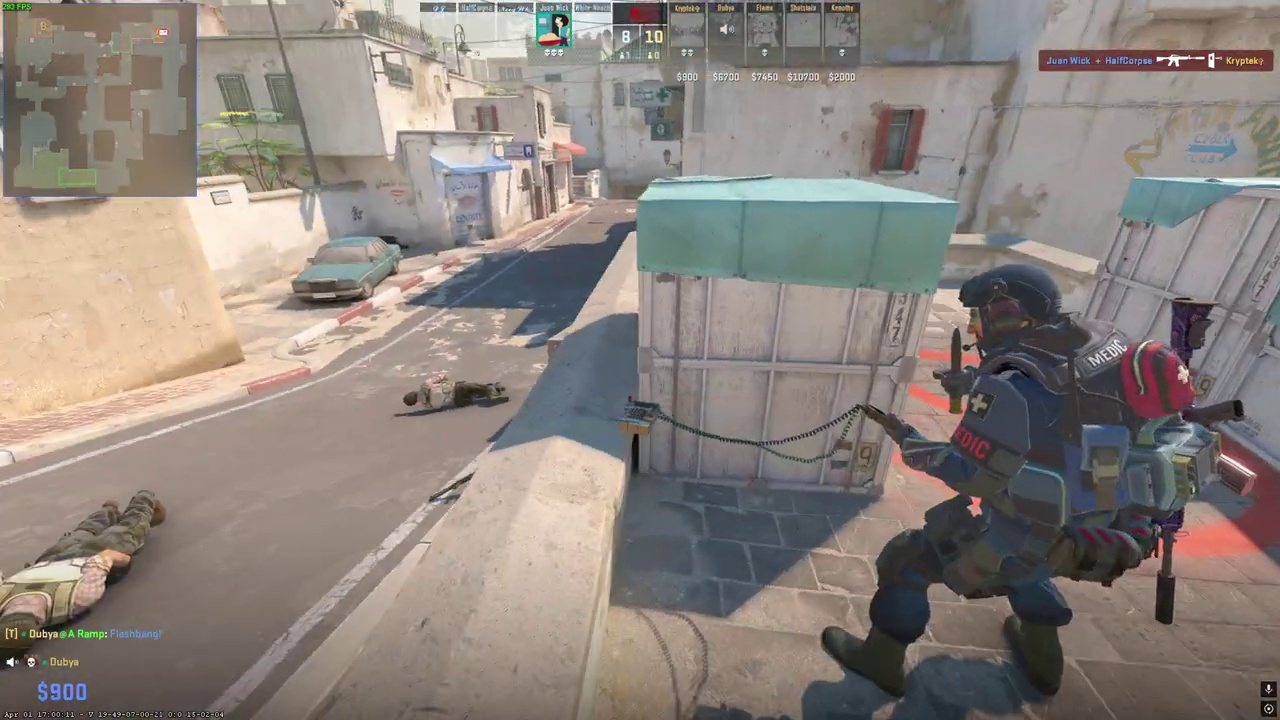CT: (854, 263, 1138, 698)
